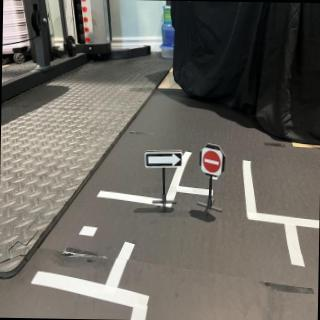sign_noentry: (201, 148, 223, 178)
sign_oneway_right: (144, 151, 184, 170)
